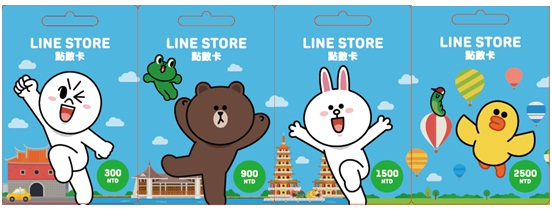line_brown: (186, 79, 259, 149)
